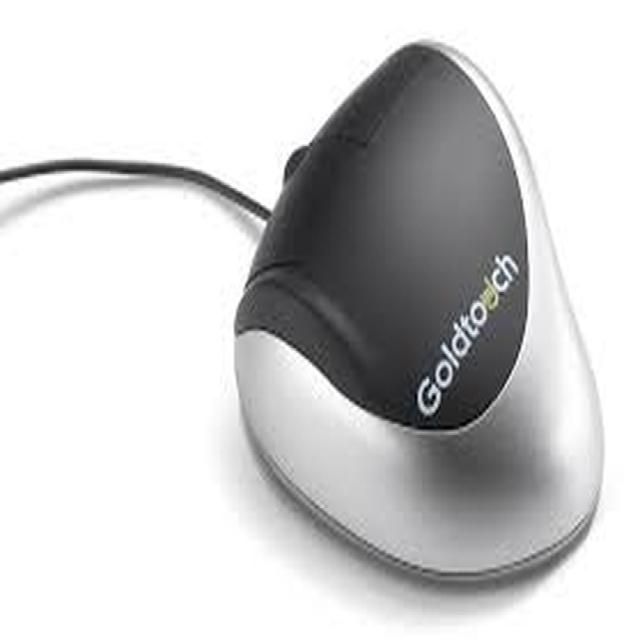mouse: (213, 30, 628, 599)
